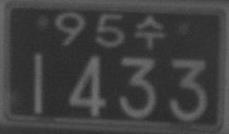1: (21, 52, 56, 113)
3: (169, 59, 209, 121), (119, 56, 157, 120)
4: (67, 54, 107, 118)
5: (94, 13, 125, 48)
9: (54, 10, 86, 46)
수: (134, 14, 165, 50)
